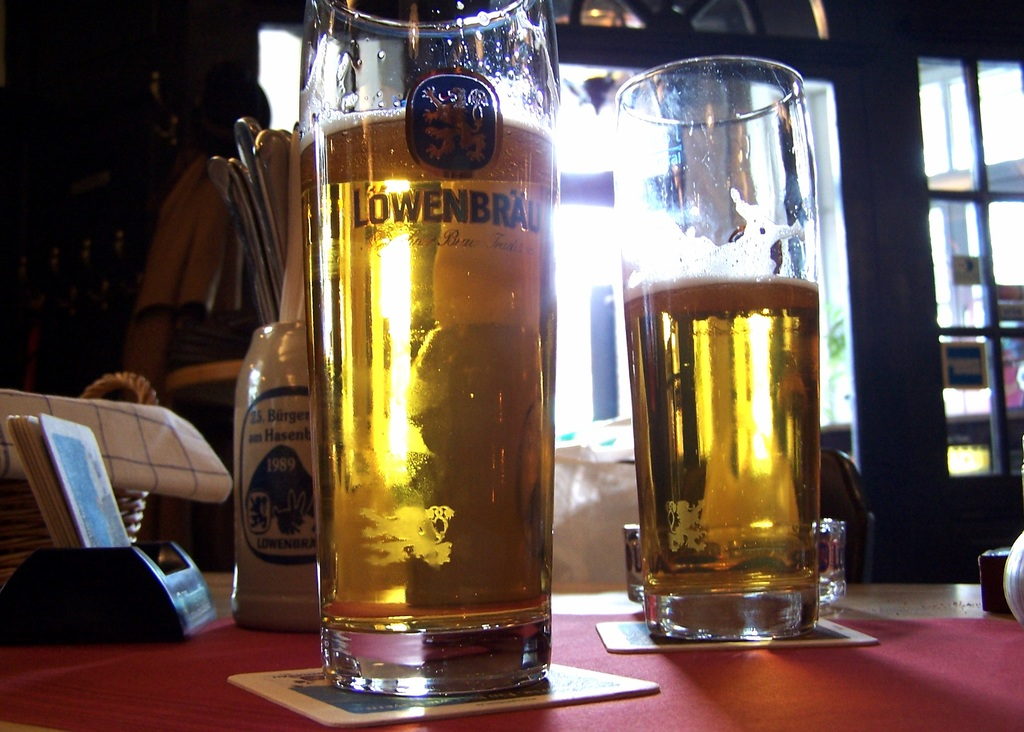Beer: (304, 105, 556, 624), (624, 273, 818, 599)
